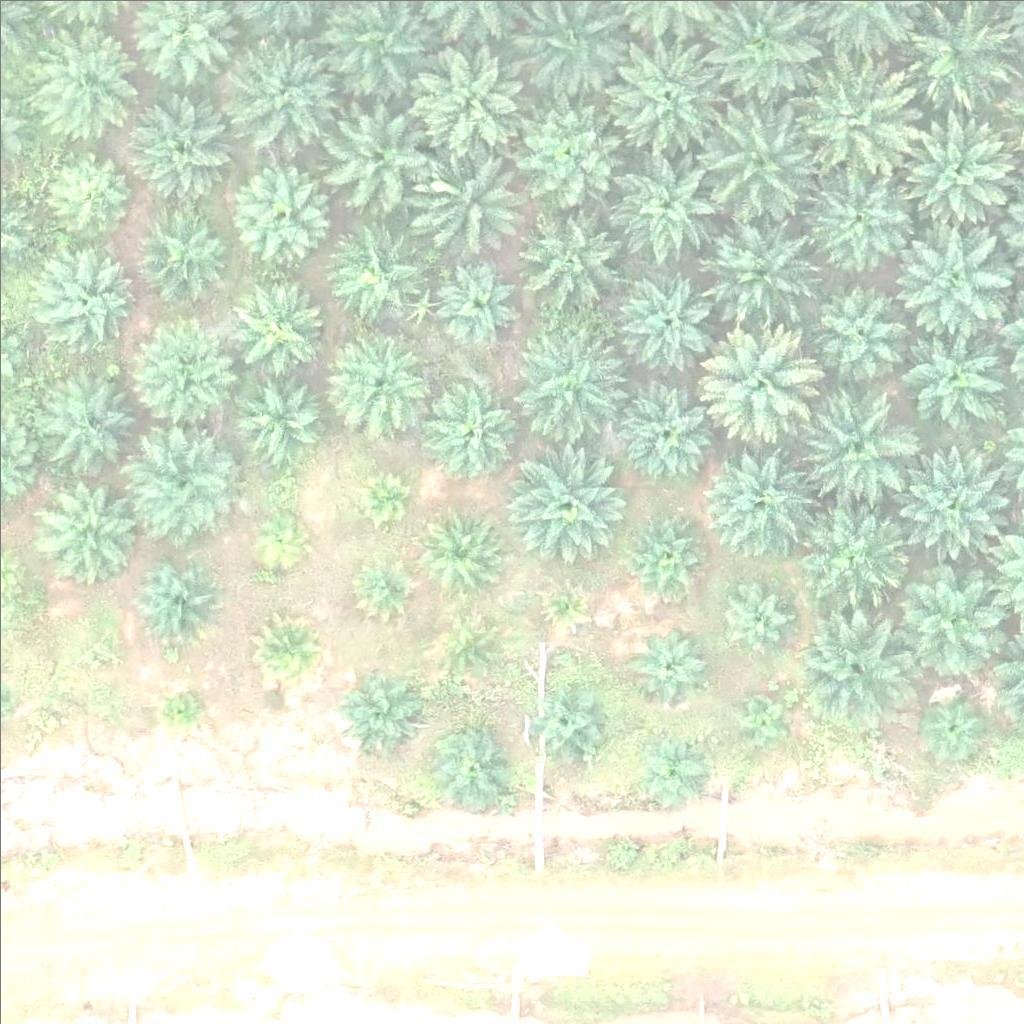Kelapa_Sawit: (508, 450, 621, 564), (617, 145, 730, 259), (707, 325, 820, 439), (896, 445, 1009, 559), (326, 97, 439, 210), (604, 39, 717, 152), (794, 491, 907, 604), (802, 608, 915, 721), (805, 154, 918, 267), (796, 58, 909, 171), (896, 563, 1009, 676), (129, 427, 241, 541), (804, 385, 916, 499), (902, 224, 1014, 338), (30, 21, 142, 134), (222, 48, 334, 161), (517, 96, 629, 209), (509, 317, 621, 430), (710, 103, 822, 216), (705, 211, 817, 324), (699, 443, 811, 556), (894, 324, 1006, 437), (898, 119, 1010, 232), (34, 472, 134, 573), (133, 98, 233, 199), (136, 315, 236, 416), (230, 166, 330, 267), (421, 146, 521, 247), (421, 50, 521, 151), (613, 382, 713, 483), (33, 366, 133, 466), (40, 246, 140, 346), (229, 278, 329, 378), (328, 221, 428, 321), (332, 329, 432, 429), (421, 381, 521, 481), (524, 213, 624, 313), (617, 268, 717, 368), (807, 288, 907, 388), (133, 556, 221, 644), (140, 209, 228, 297), (235, 375, 323, 463), (527, 679, 615, 767), (432, 256, 520, 344), (621, 512, 709, 600), (44, 147, 131, 235), (427, 723, 514, 811), (418, 508, 505, 596), (343, 667, 418, 743), (634, 625, 709, 701), (644, 741, 707, 804), (922, 693, 985, 756), (255, 620, 318, 683), (724, 586, 786, 649), (433, 614, 495, 677), (258, 513, 308, 564), (356, 471, 406, 521), (361, 563, 411, 613), (734, 694, 784, 744), (165, 691, 202, 729), (550, 591, 587, 628), (88, 640, 113, 666)
